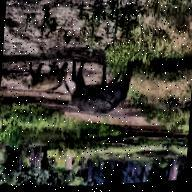boar: (67, 53, 139, 127), (28, 58, 73, 102)
